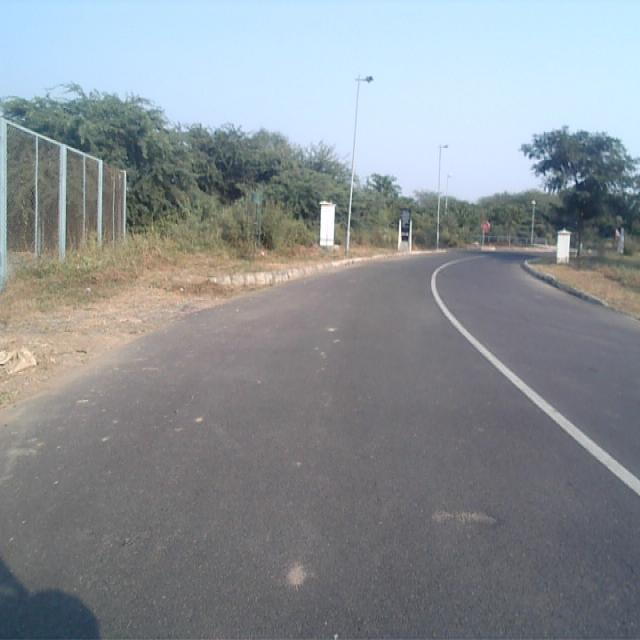lane: (0, 253, 640, 640)
